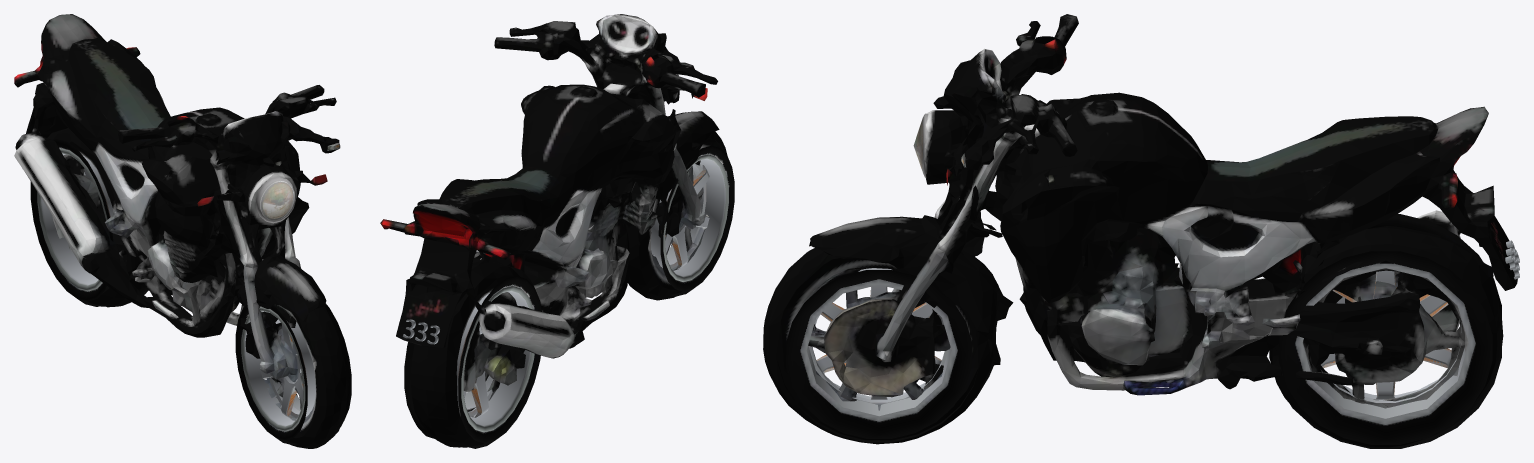
Rendered from AML333 MOTO terminada.glb.
3 views of the same model, side by side, from view 1: azimuth 30°, elevation 25°; view 2: azimuth 150°, elevation 25°; view 3: azimuth 270°, elevation 25° (orthographic). The views are drawn at different scales.
Visible parts, largest first — view 1: node_id28, node_id93, node_id116, node_id97, node_id120, node_id37, node_id39; view 2: node_id28, node_id93, node_id116, node_id120, node_id97, node_id127; view 3: node_id28, node_id120, node_id97, node_id116, node_id93, node_id122.
Part boxes in pixels (x1,y1,x2,y2): node_id28: (14, 14, 346, 448); node_id93: (241, 307, 315, 431); node_id116: (37, 148, 119, 290); node_id97: (235, 299, 351, 440); node_id120: (30, 139, 113, 301); node_id37: (260, 180, 294, 220); node_id39: (255, 176, 295, 223); node_id28: (380, 14, 727, 447); node_id93: (651, 154, 728, 281); node_id116: (456, 286, 534, 432); node_id120: (404, 276, 541, 443); node_id97: (660, 145, 734, 291); node_id127: (403, 319, 439, 344); node_id28: (763, 14, 1517, 447); node_id120: (1278, 218, 1492, 444); node_id97: (786, 270, 972, 438); node_id116: (1295, 263, 1475, 424); node_id93: (800, 268, 957, 421); node_id122: (1269, 214, 1501, 448).
Size of the model in its own units: 0.2065 by 0.2895 by 0.5127.
Materials: 11 (11 with a texture image).
